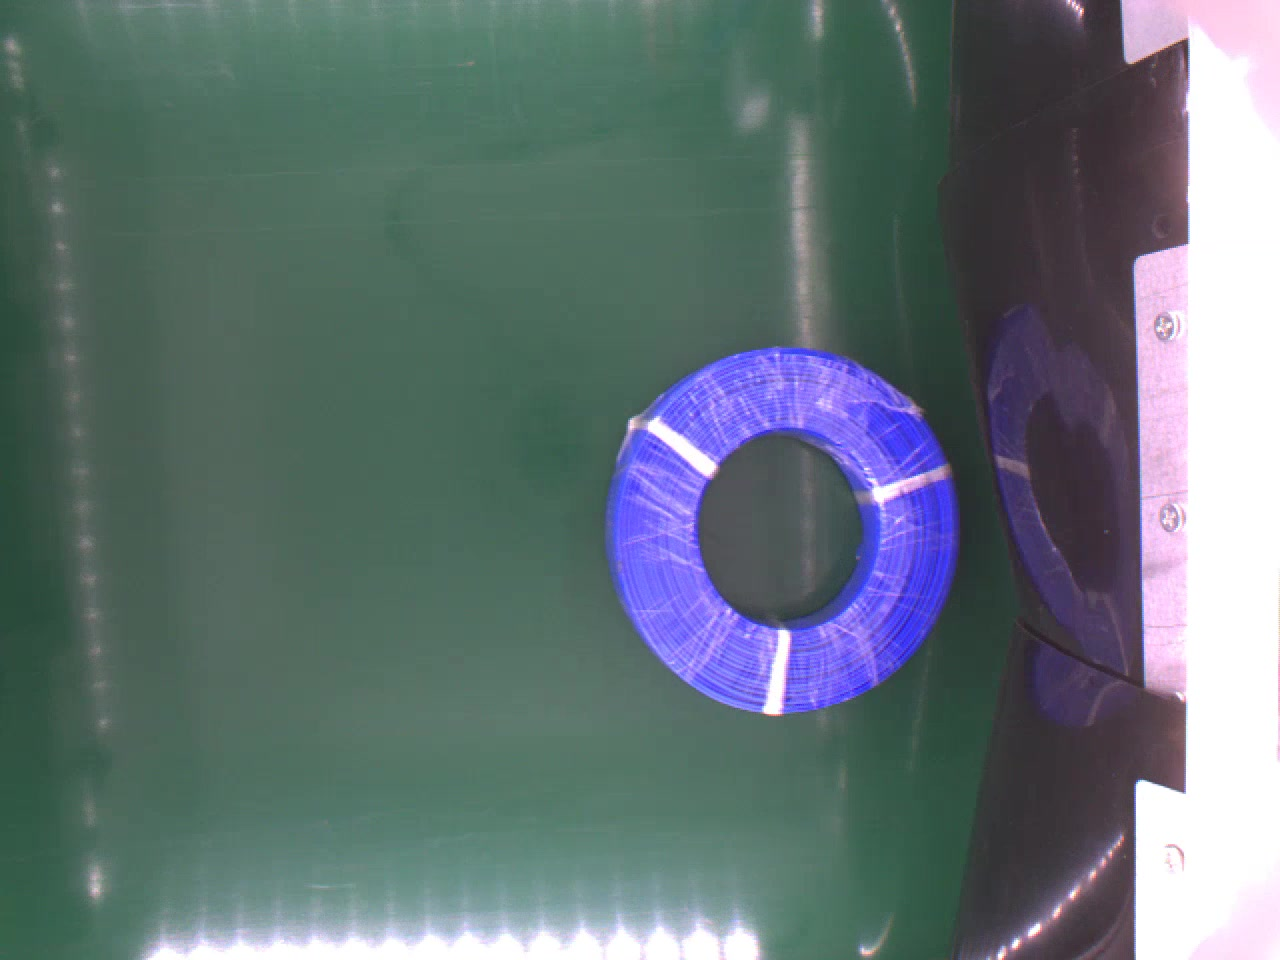blue: (602, 345, 964, 716)
